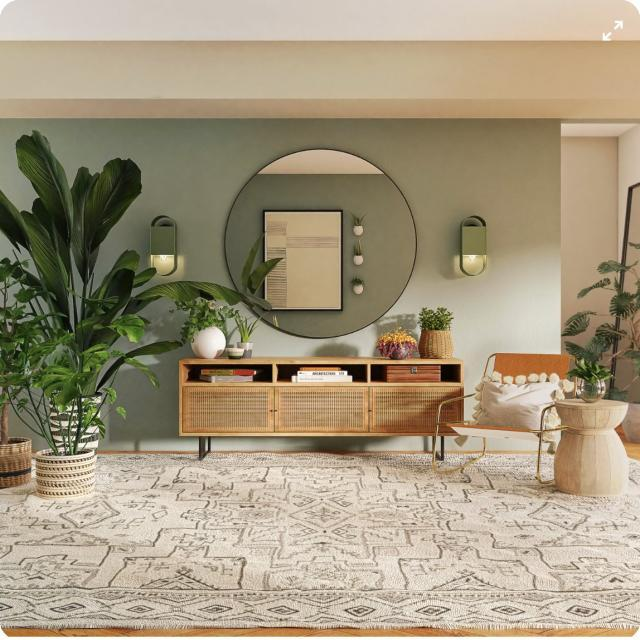lamp: (456, 210, 496, 284)
picture: (258, 198, 348, 318)
potted plant: (7, 130, 149, 500), (570, 339, 613, 401), (416, 301, 458, 358), (187, 301, 224, 355), (370, 327, 414, 358), (235, 314, 258, 362)
